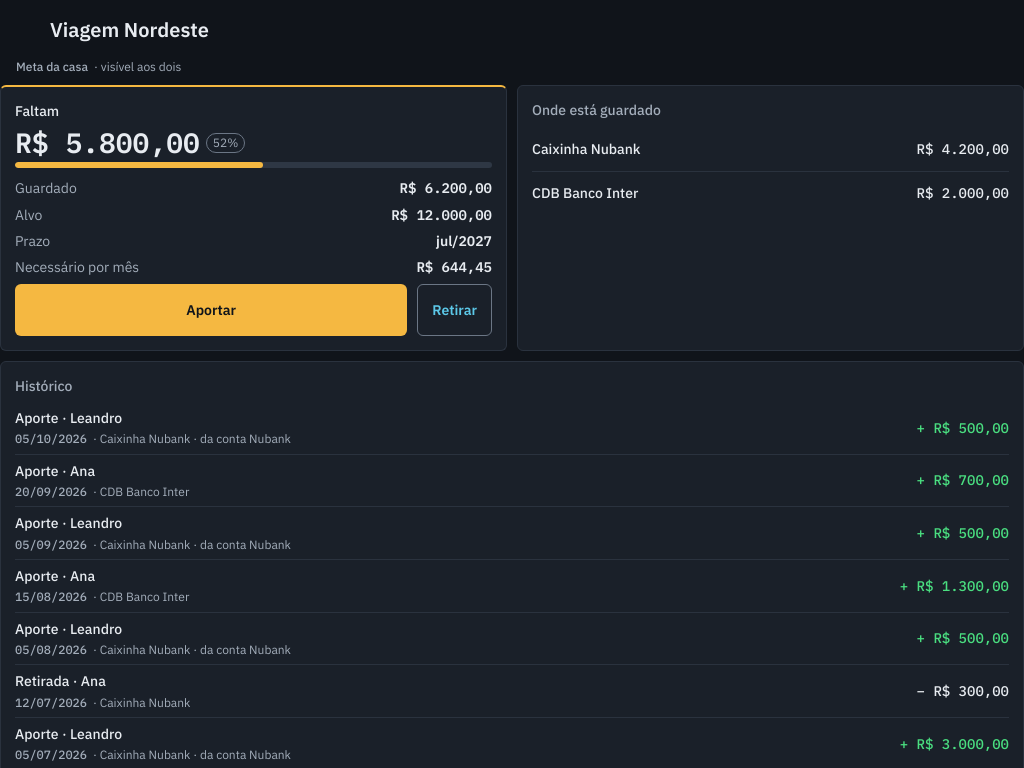
T13 abertura e fechamento › Esc fecha, tira o parâmetro e devolve o foco ao botão de origem
Click the link "Aportar" at (211, 310), box [15,284,407,336]
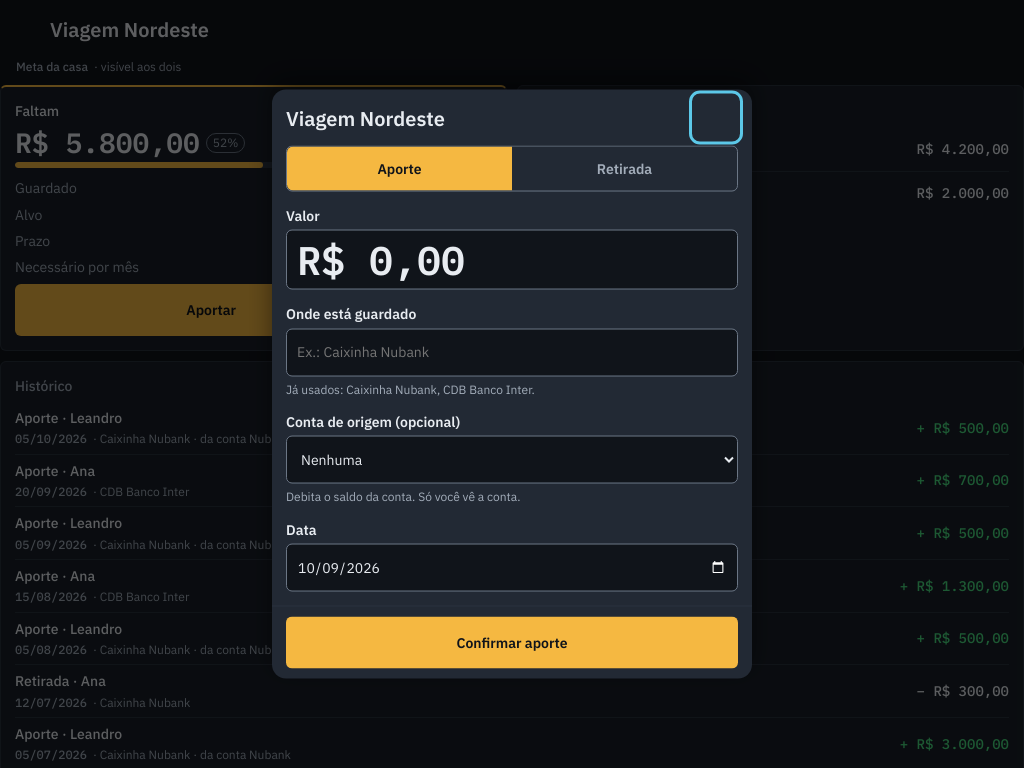
Press Escape
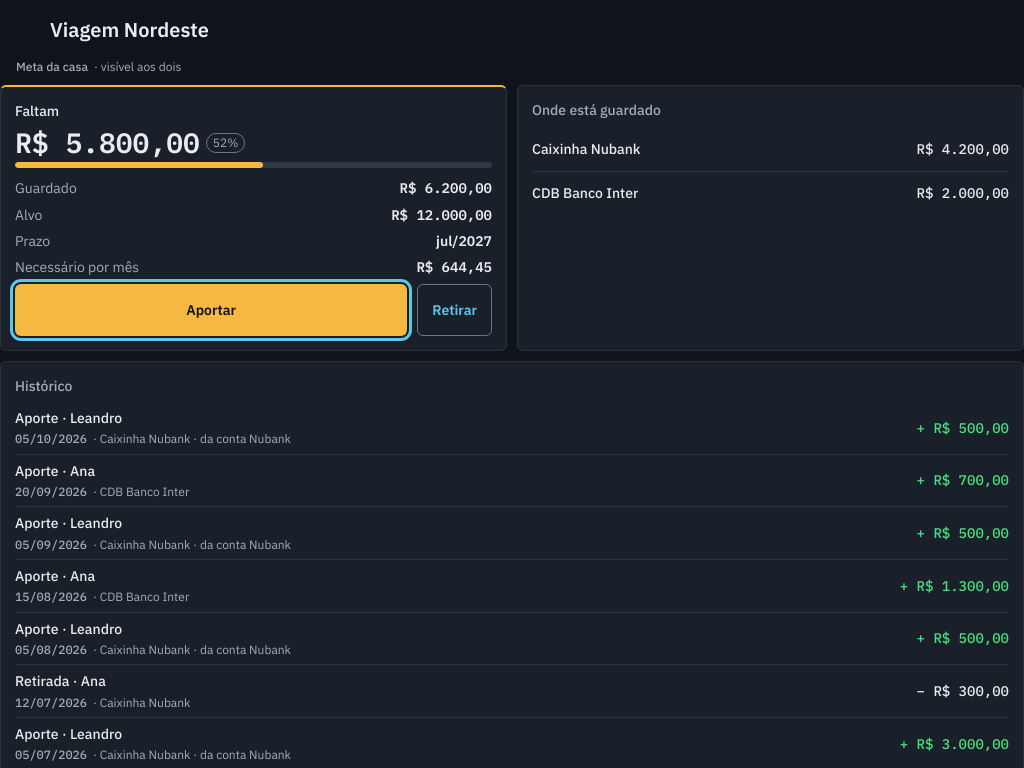
Result: the dialog is gone
